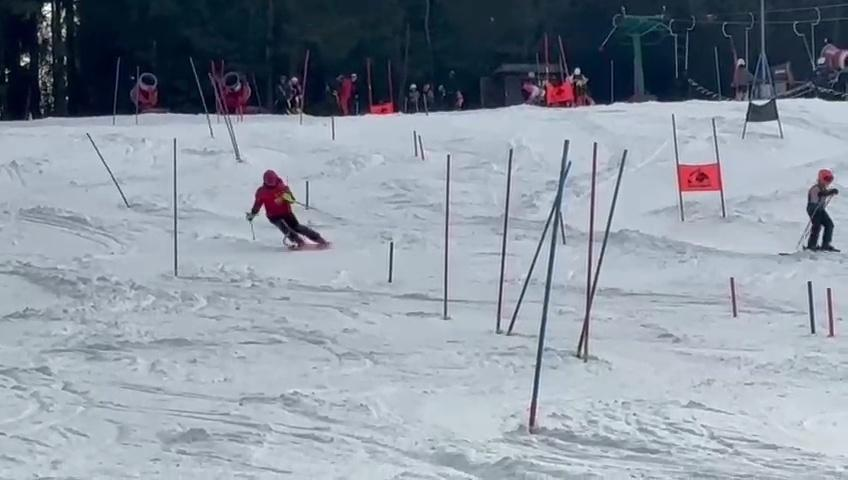gate: (522, 128, 577, 437), (584, 136, 629, 368), (489, 142, 520, 352), (75, 130, 142, 215), (434, 153, 461, 336), (204, 71, 248, 171), (660, 106, 695, 228), (161, 133, 188, 284), (705, 117, 734, 226), (185, 59, 217, 141), (759, 72, 789, 146), (719, 263, 748, 320), (741, 75, 762, 152), (802, 278, 822, 339), (821, 283, 840, 341), (387, 233, 397, 292), (324, 112, 341, 143), (299, 179, 314, 210)
